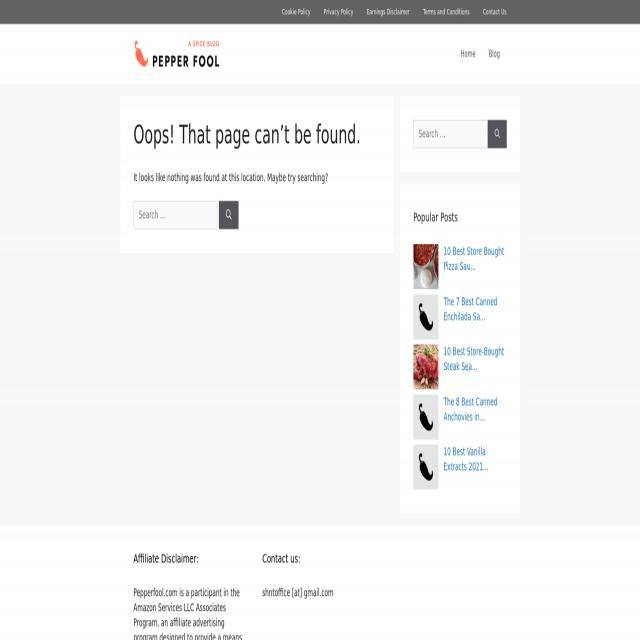button: (134, 36, 220, 72), (416, 0, 476, 24), (359, 0, 416, 24), (414, 294, 438, 340), (414, 344, 438, 390), (414, 394, 438, 440), (414, 444, 438, 490), (414, 244, 438, 289), (317, 0, 360, 24), (275, 0, 317, 24), (454, 36, 482, 72), (482, 36, 507, 72), (218, 201, 238, 230), (488, 120, 507, 150)
field: (133, 200, 217, 228), (413, 120, 488, 148)
